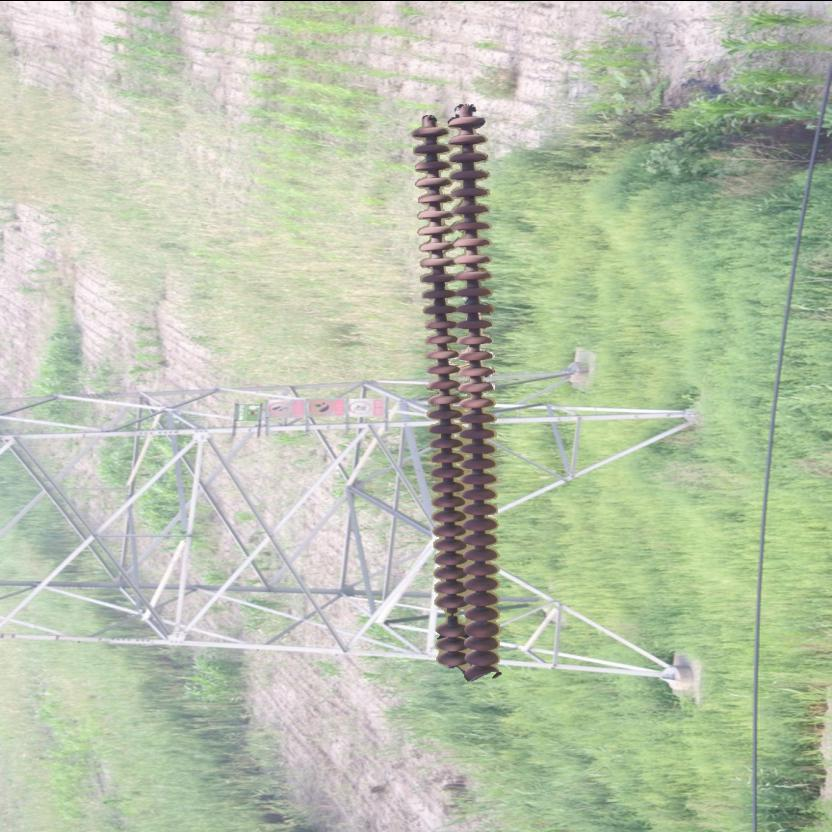defect: (432, 595, 468, 640)
